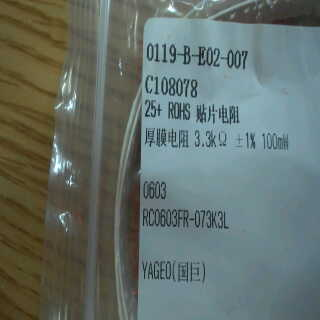3.3kO: (188, 124, 233, 156)
